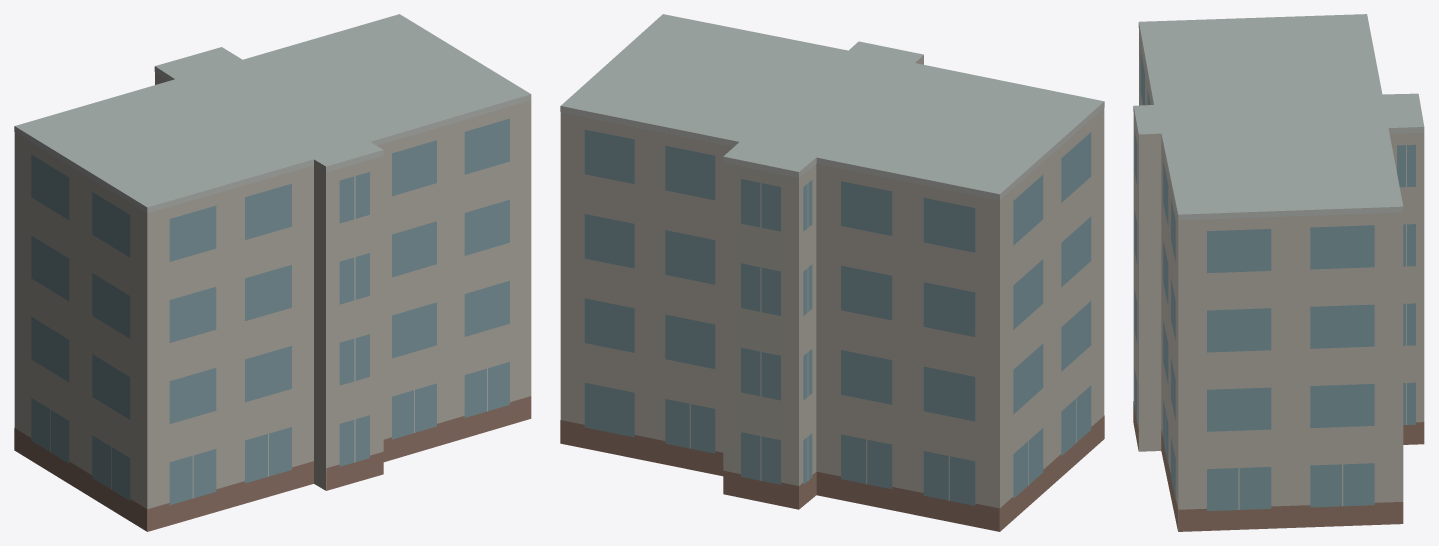
Rendered from survey-upis-33035663.glb.
The picture shows the model from 3 angles, left to right: view 1: azimuth 30°, elevation 25°; view 2: azimuth 150°, elevation 25°; view 3: azimuth 270°, elevation 25°; orthographic projection. The views are drawn at different scales.
Visible parts, largest first — view 1: survey-upis-33035663.tmp; view 2: survey-upis-33035663.tmp; view 3: survey-upis-33035663.tmp.
Boxes of the visible parts, x1,y1,x2,y2 form: survey-upis-33035663.tmp: (14, 14, 531, 531); survey-upis-33035663.tmp: (560, 14, 1104, 531); survey-upis-33035663.tmp: (1133, 14, 1424, 531).
Bounding box in the file's own units: 18.11 × 13.35 × 11.1.
